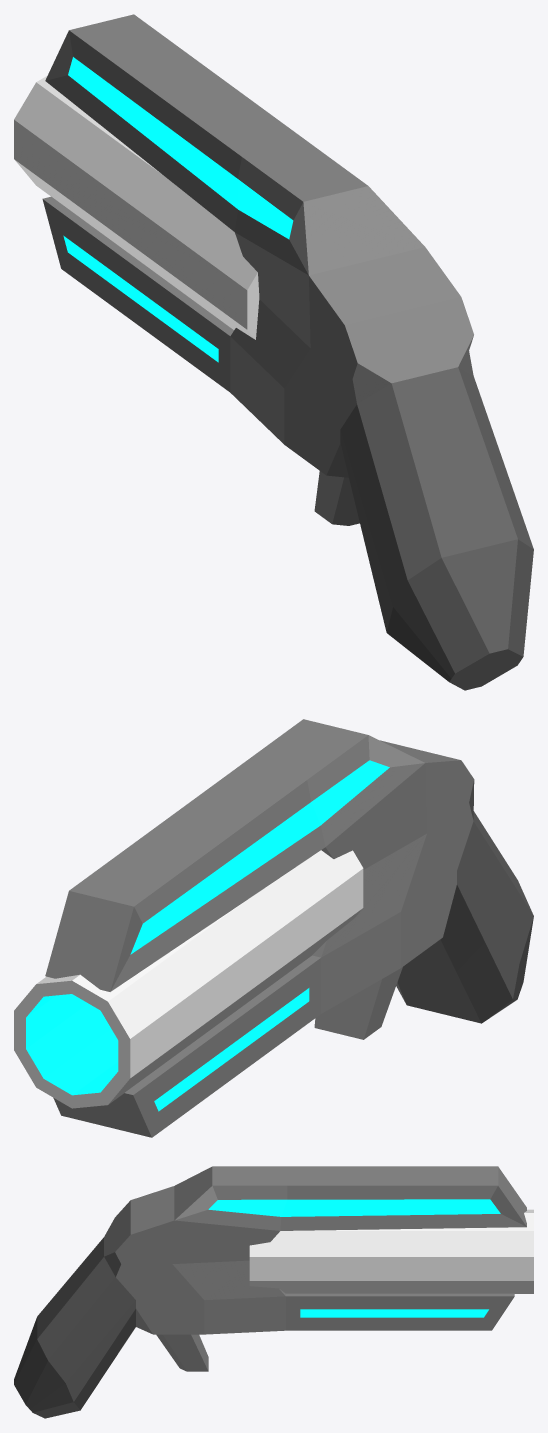
Rendered from low_poly_laser_pistol_1.glb.
3 renders of one model, top to bottom at view 1: azimuth 30°, elevation 25°; view 2: azimuth 150°, elevation 25°; view 3: azimuth 270°, elevation 25°, orthographic. The views are drawn at different scales.
Parts seen in each view (by area): view 1: Object_5, Object_6, Object_4, Object_3; view 2: Object_5, Object_4, Object_6, Object_3, Object_2; view 3: Object_5, Object_4, Object_6, Object_3.
Boxes of the visible parts, left/top/right/bottom form: Object_5: left=42, top=14, right=522, bottom=690; Object_6: left=340, top=367, right=533, bottom=681; Object_4: left=14, top=75, right=259, bottom=339; Object_3: left=63, top=57, right=293, bottom=362; Object_5: left=45, top=719, right=474, bottom=1137; Object_4: left=14, top=850, right=363, bottom=1108; Object_6: left=396, top=811, right=533, bottom=1023; Object_3: left=130, top=760, right=389, bottom=1111; Object_2: left=26, top=994, right=118, bottom=1095; Object_5: left=104, top=1166, right=526, bottom=1371; Object_4: left=249, top=1209, right=533, bottom=1293; Object_6: left=14, top=1237, right=135, bottom=1418; Object_3: left=208, top=1199, right=500, bottom=1317.
Bounding box in the file's own units: 0.273 × 0.8136 × 1.6.
